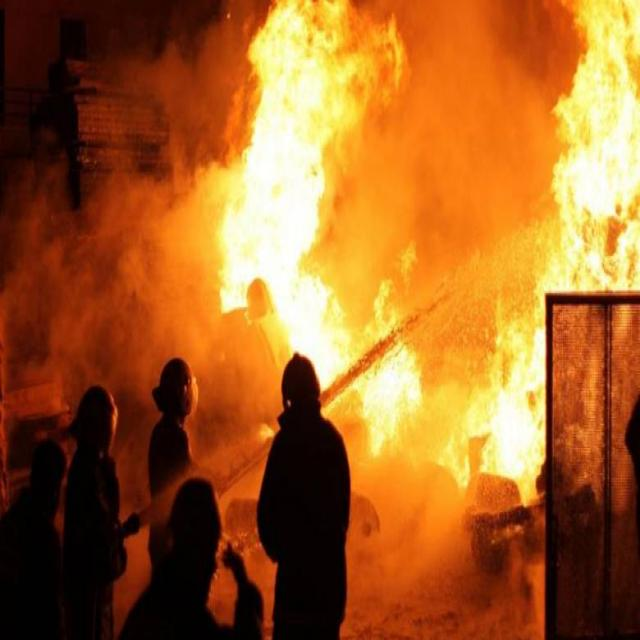Fire: (223, 18, 369, 346), (366, 278, 548, 480), (543, 6, 640, 291)
Smoke: (7, 162, 219, 356)
